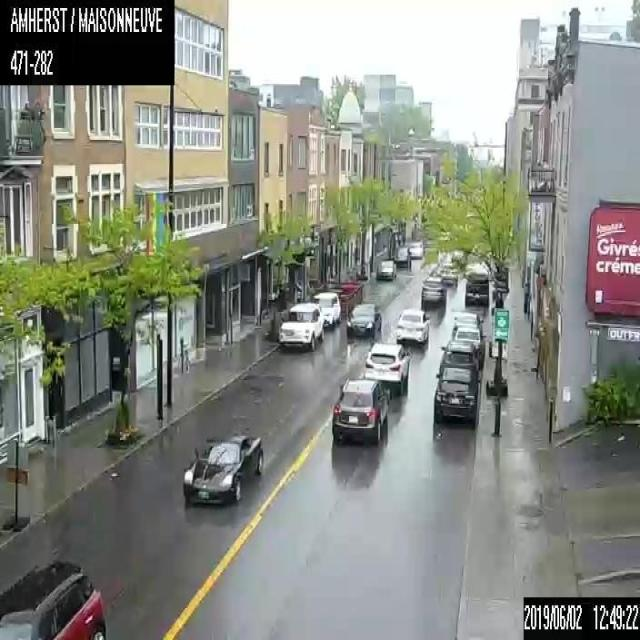vehicle: (0, 560, 108, 639), (182, 432, 262, 507), (332, 377, 388, 444), (433, 367, 480, 425), (363, 342, 409, 393), (279, 301, 323, 348), (439, 340, 479, 376), (346, 303, 381, 338), (396, 308, 428, 345), (452, 326, 485, 360), (310, 291, 341, 326), (464, 271, 489, 305), (420, 276, 446, 306), (453, 310, 483, 332), (376, 259, 395, 280), (394, 244, 410, 267), (408, 241, 423, 258)
